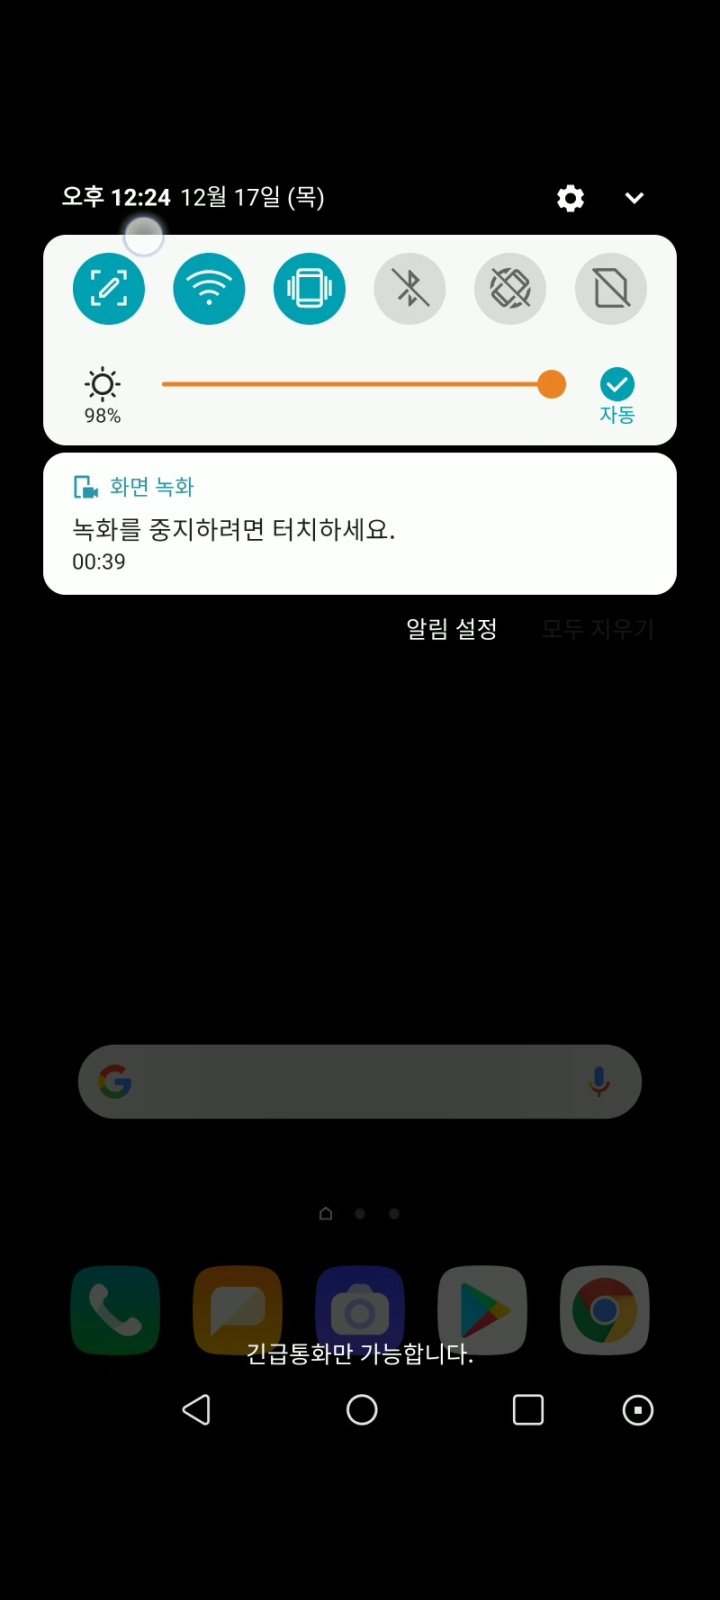Cursor: (122, 213, 167, 259)
